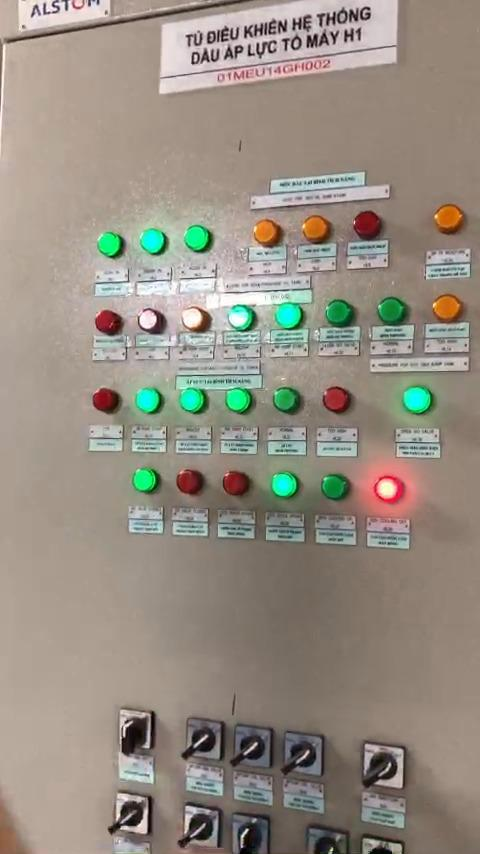led: (433, 202, 469, 238), (352, 210, 389, 244), (319, 471, 354, 506), (430, 294, 466, 328), (402, 384, 435, 416), (219, 470, 253, 501), (183, 225, 214, 258), (325, 295, 356, 328), (373, 474, 406, 505), (322, 384, 353, 416), (225, 304, 258, 334), (300, 216, 334, 245), (223, 388, 254, 419), (273, 388, 304, 419), (96, 233, 125, 264), (377, 295, 408, 324), (130, 466, 158, 498), (273, 304, 306, 331), (180, 307, 208, 338), (137, 309, 168, 337), (140, 229, 169, 258), (174, 469, 205, 496), (252, 221, 280, 250), (92, 386, 120, 415), (272, 471, 299, 501), (93, 310, 123, 336), (179, 388, 206, 415), (137, 389, 162, 418)
twist: (360, 740, 405, 789), (115, 705, 155, 756), (187, 719, 224, 763), (287, 731, 324, 774), (112, 795, 150, 836), (233, 729, 269, 768), (233, 814, 268, 854), (185, 808, 218, 848), (307, 825, 343, 854), (360, 832, 404, 854)
